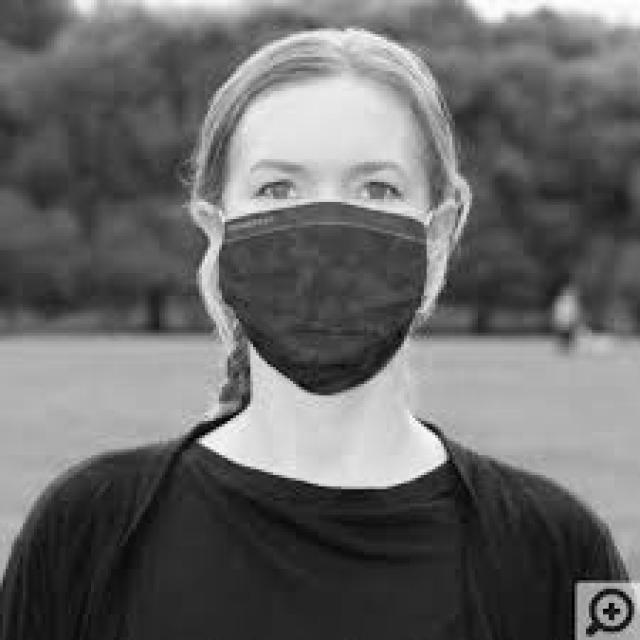fake: (210, 201, 437, 390)
real: (229, 84, 422, 405)
